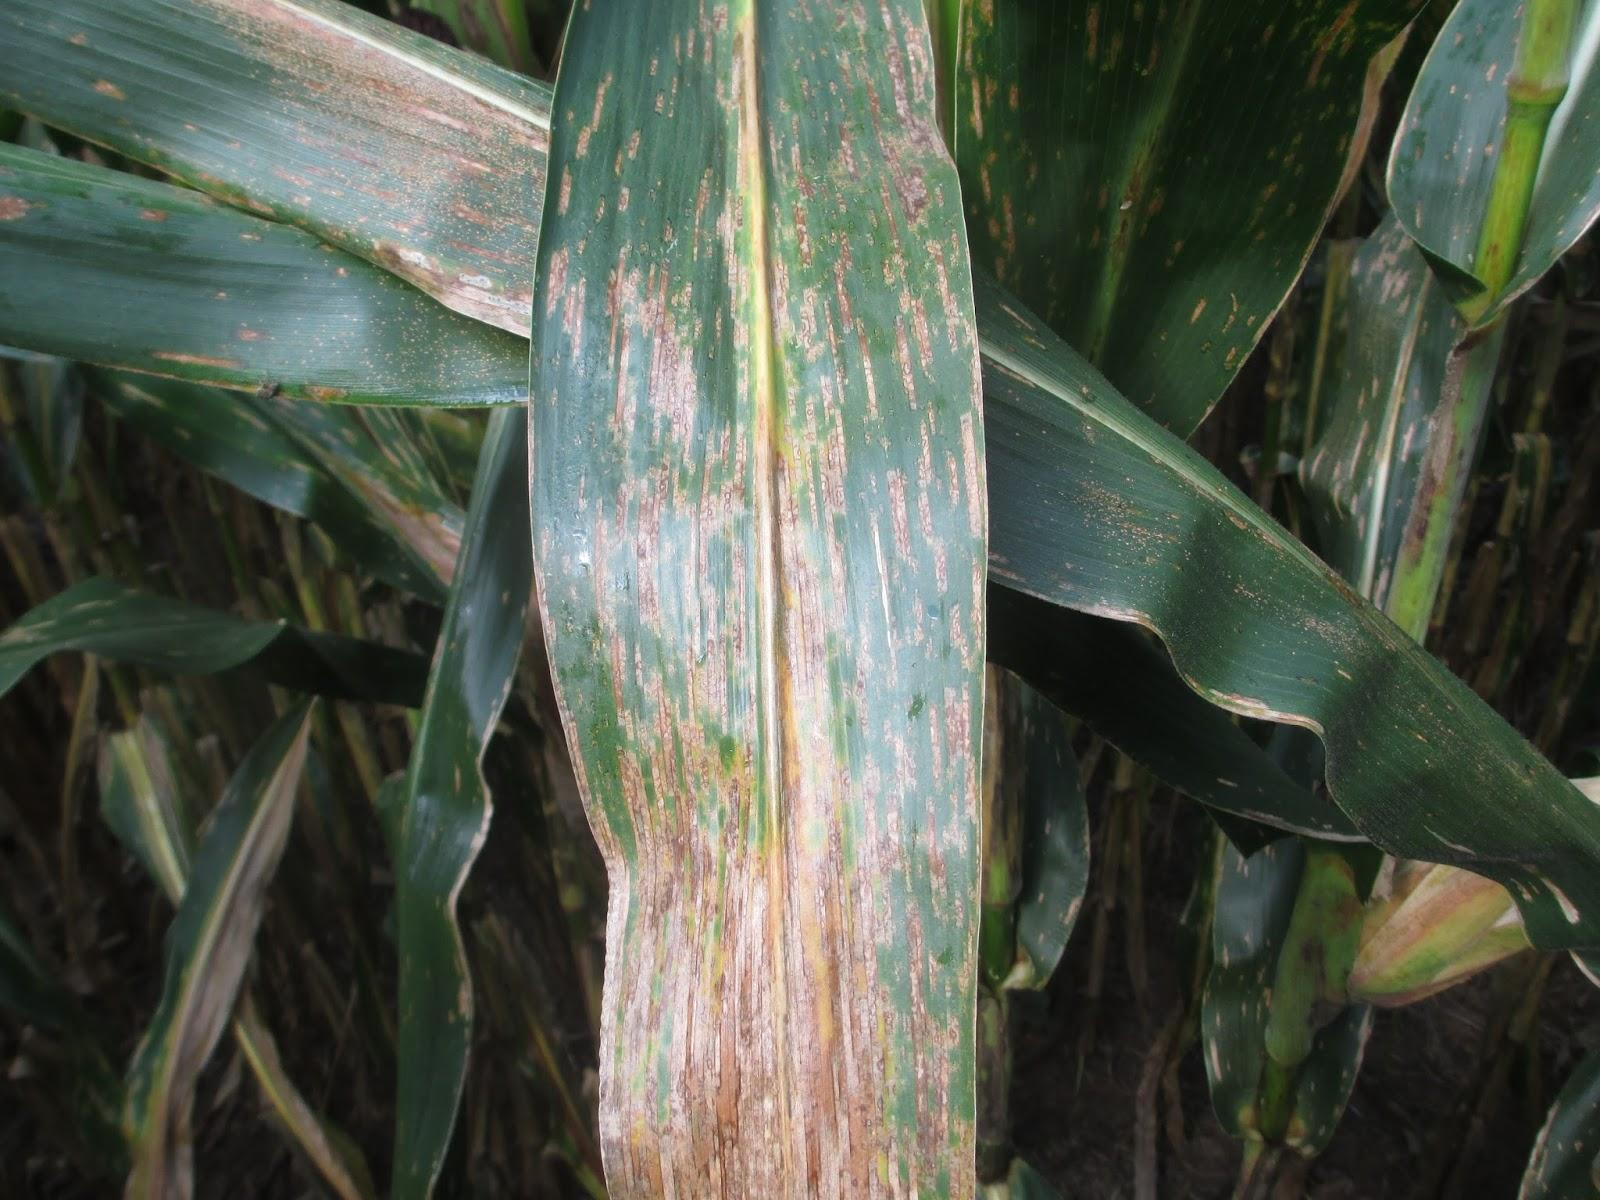Gray_Leaf_Spot: (523, 287, 999, 1200), (107, 700, 315, 1200), (174, 0, 535, 258), (738, 0, 986, 287), (1255, 0, 1403, 270), (1290, 275, 1488, 464), (1405, 811, 1599, 989), (1214, 464, 1417, 632), (310, 424, 465, 571), (102, 354, 343, 416), (991, 53, 1037, 306), (1101, 160, 1192, 282), (1068, 592, 1178, 693), (1183, 679, 1311, 763), (1163, 289, 1266, 379), (671, 165, 738, 292), (62, 19, 144, 115), (1075, 0, 1167, 79), (678, 0, 740, 117), (535, 237, 671, 287), (568, 61, 624, 170), (547, 176, 637, 232), (637, 34, 671, 127), (222, 304, 267, 349), (0, 187, 35, 232), (126, 184, 168, 221)
